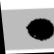correct: (22, 18, 54, 44)
